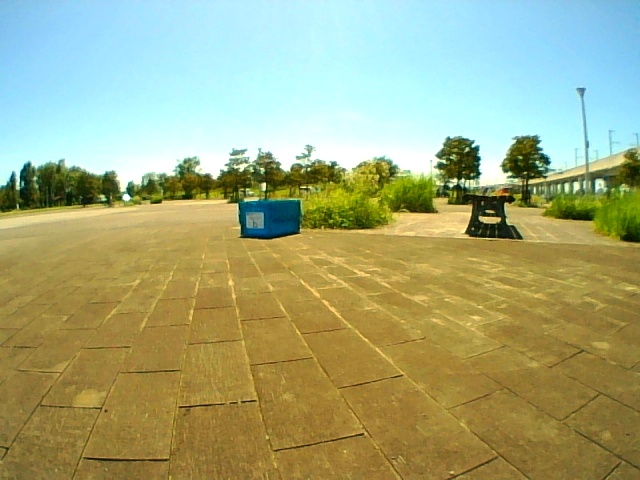blue_box: (239, 200, 300, 235)
tag_b: (246, 212, 264, 228)
